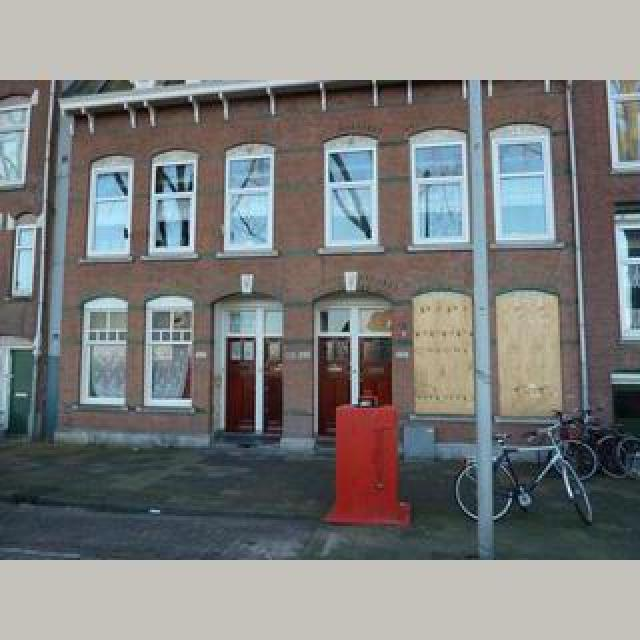Person: (454, 412, 598, 526), (550, 410, 630, 480)
